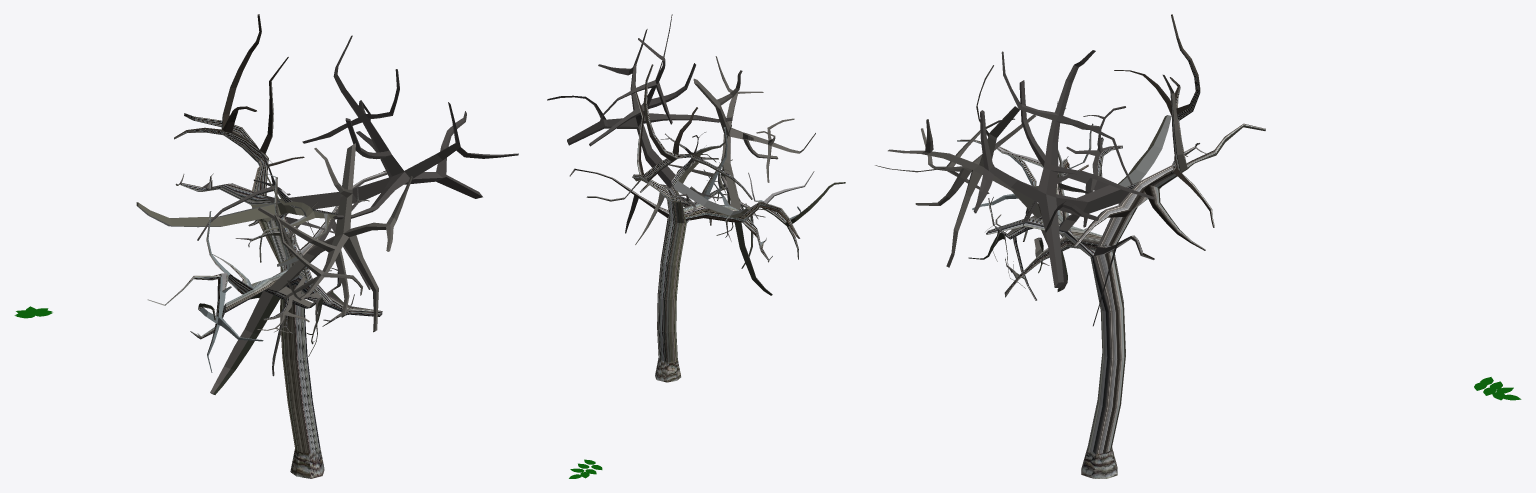
The model's file is tree_green.gltf.
3 views of the same model, side by side, from view 1: azimuth 30°, elevation 25°; view 2: azimuth 150°, elevation 25°; view 3: azimuth 270°, elevation 25° (orthographic). The views are drawn at different scales.
Parts seen in each view (by area): view 1: 立方体, 立方体.001; view 2: 立方体, 立方体.001, leaf; view 3: 立方体, 立方体.001.
Part boxes in pixels (x1,y1,x2,y2): 立方体: [136, 14, 518, 478]; 立方体.001: [147, 143, 412, 394]; 立方体: [547, 14, 752, 382]; 立方体.001: [669, 56, 845, 295]; leaf: [569, 459, 602, 478]; 立方体: [973, 14, 1265, 478]; 立方体.001: [875, 65, 1106, 300].
Size of the model in its own units: 3.63 by 4.65 by 6.06.
Materials: 2 (1 with a texture image).
